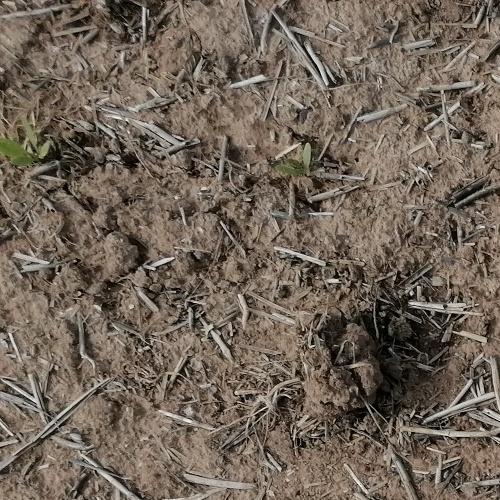beet: (0, 118, 51, 164), (277, 144, 315, 184)
